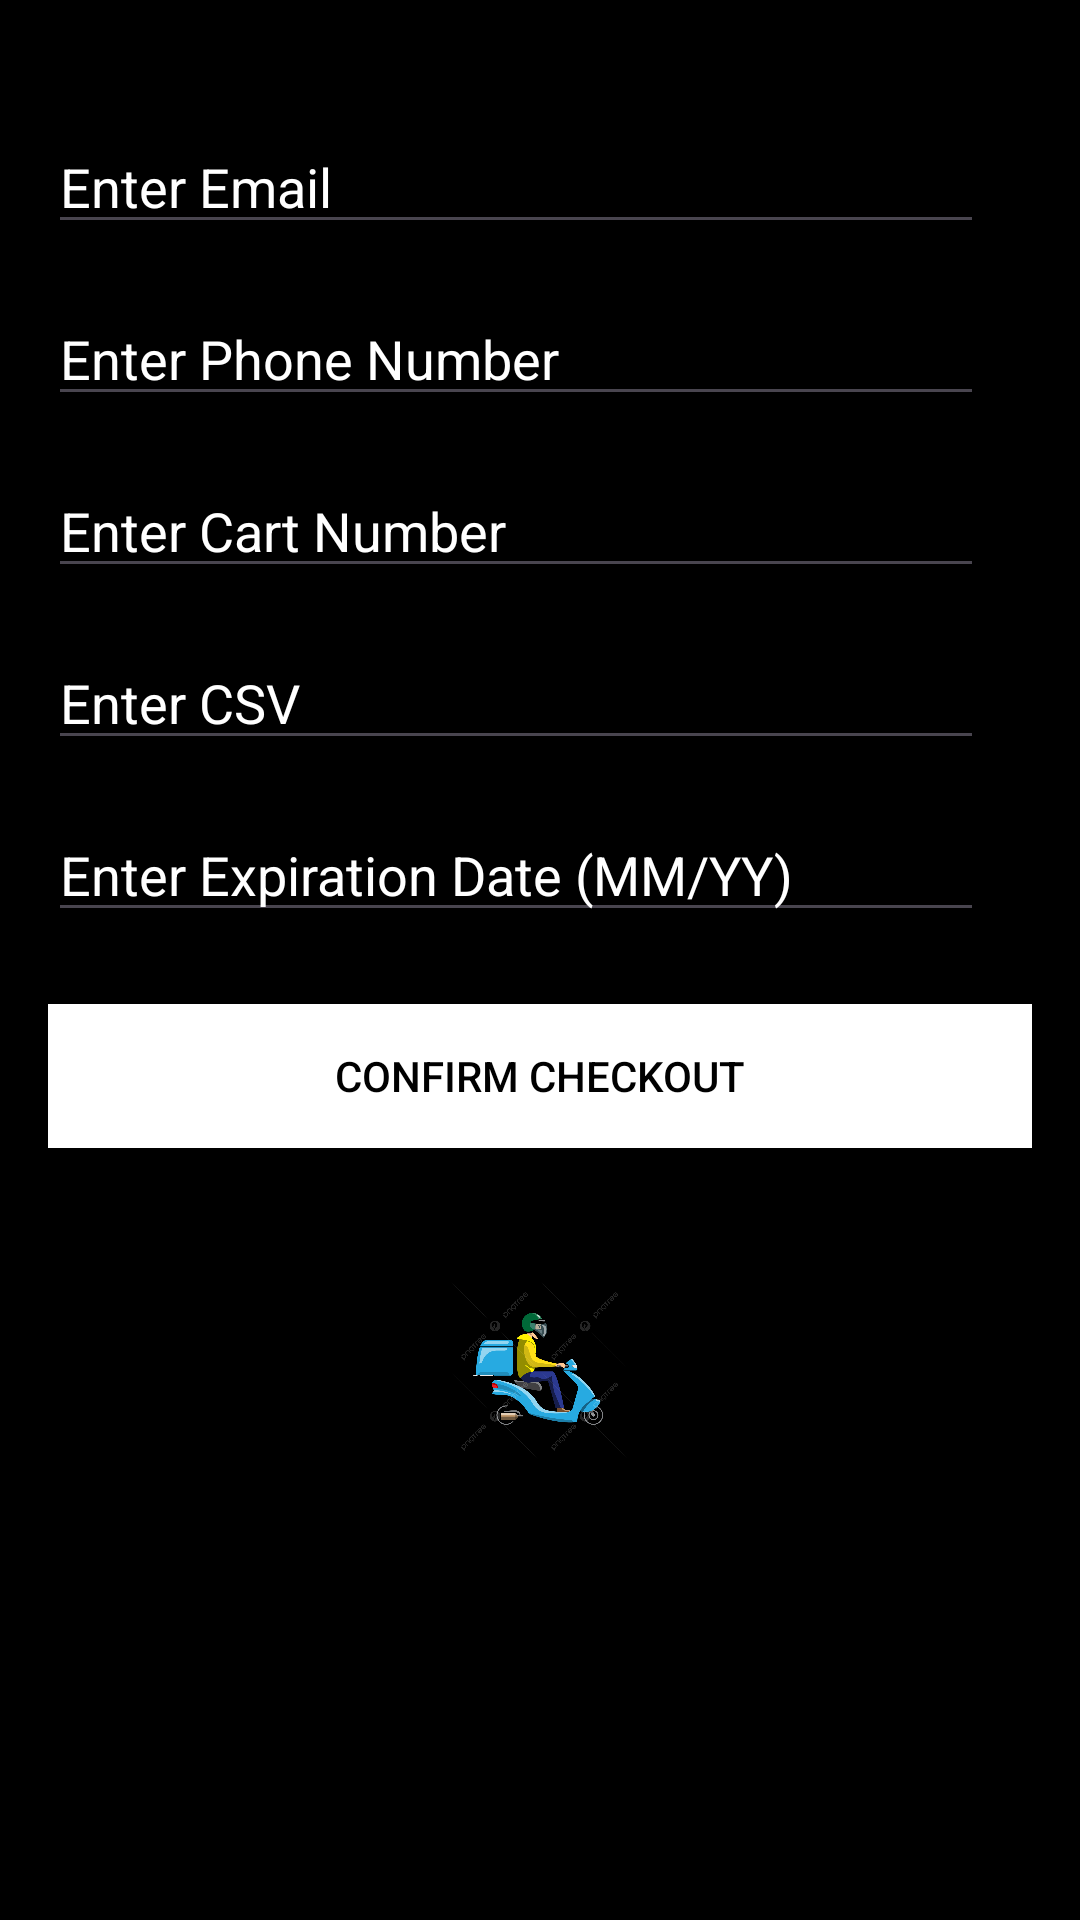

Icon click points for this 1080px x 1920px phone screenshot, format (x,y):
motorcycle: (539,1371)
